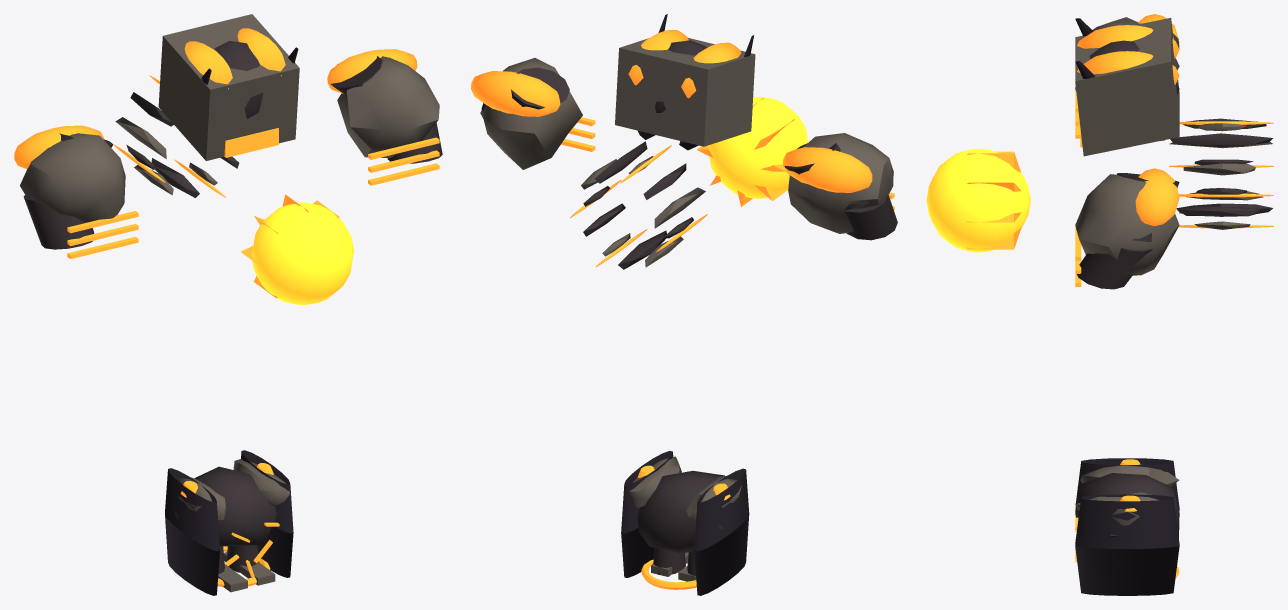
File: krakor.glb
3 views of the same model, side by side, from view 1: azimuth 30°, elevation 25°; view 2: azimuth 150°, elevation 25°; view 3: azimuth 270°, elevation 25° (orthographic).
Visible parts, largest first — view 1: boss_tete.002, boss_corps.001, boss_bras_g.001, boss_bras_d.001, boss_coeur.002, boss_halo.002; view 2: boss_corps.001, boss_tete.002, boss_bras_g.001, boss_bras_d.001, boss_coeur.002, boss_halo.002; view 3: boss_corps.001, boss_tete.002, boss_bras_d.001, boss_coeur.002, boss_halo.002, boss_bras_g.001.
Boxes of the visible parts, x1=… form: boss_tete.002: x1=158, y1=14, x2=299, y2=160; boss_corps.001: x1=165, y1=450, x2=293, y2=595; boss_bras_g.001: x1=14, y1=125, x2=138, y2=258; boss_bras_d.001: x1=327, y1=49, x2=442, y2=185; boss_coeur.002: x1=241, y1=194, x2=353, y2=304; boss_halo.002: x1=113, y1=75, x2=239, y2=197; boss_corps.001: x1=621, y1=451, x2=749, y2=595; boss_tete.002: x1=615, y1=14, x2=755, y2=150; boss_bras_g.001: x1=783, y1=133, x2=897, y2=240; boss_bras_d.001: x1=471, y1=58, x2=595, y2=169; boss_coeur.002: x1=697, y1=97, x2=808, y2=206; boss_halo.002: x1=570, y1=141, x2=707, y2=269; boss_corps.001: x1=1075, y1=458, x2=1179, y2=595; boss_tete.002: x1=1075, y1=18, x2=1179, y2=156; boss_bras_d.001: x1=1075, y1=168, x2=1179, y2=289; boss_coeur.002: x1=926, y1=149, x2=1030, y2=252; boss_halo.002: x1=1169, y1=118, x2=1273, y2=229; boss_bras_g.001: x1=1075, y1=14, x2=1179, y2=138.
Size of the model in its own units: 9 by 11.3 by 6.65.
